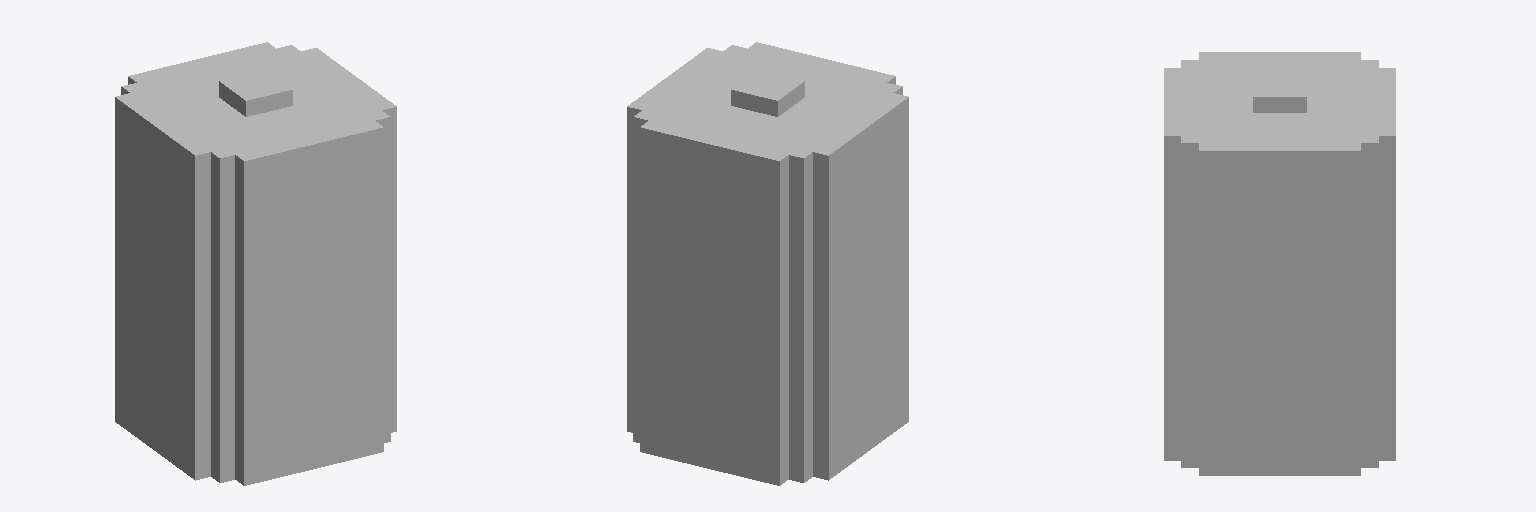
Rendered from Батарейка.obj.
The picture shows the model from 3 angles: view 1: azimuth 30°, elevation 25°; view 2: azimuth 150°, elevation 25°; view 3: azimuth 270°, elevation 25°; orthographic projection.
Parts seen in each view (by area): view 1: object 1; view 2: object 1; view 3: object 1.
Part boxes in pixels (x1,y1,x2,y2): object 1: (115,42,396,485); object 1: (627,42,908,485); object 1: (1164,52,1395,475).
Size of the model in its own units: 1.3 by 2.1 by 1.3.